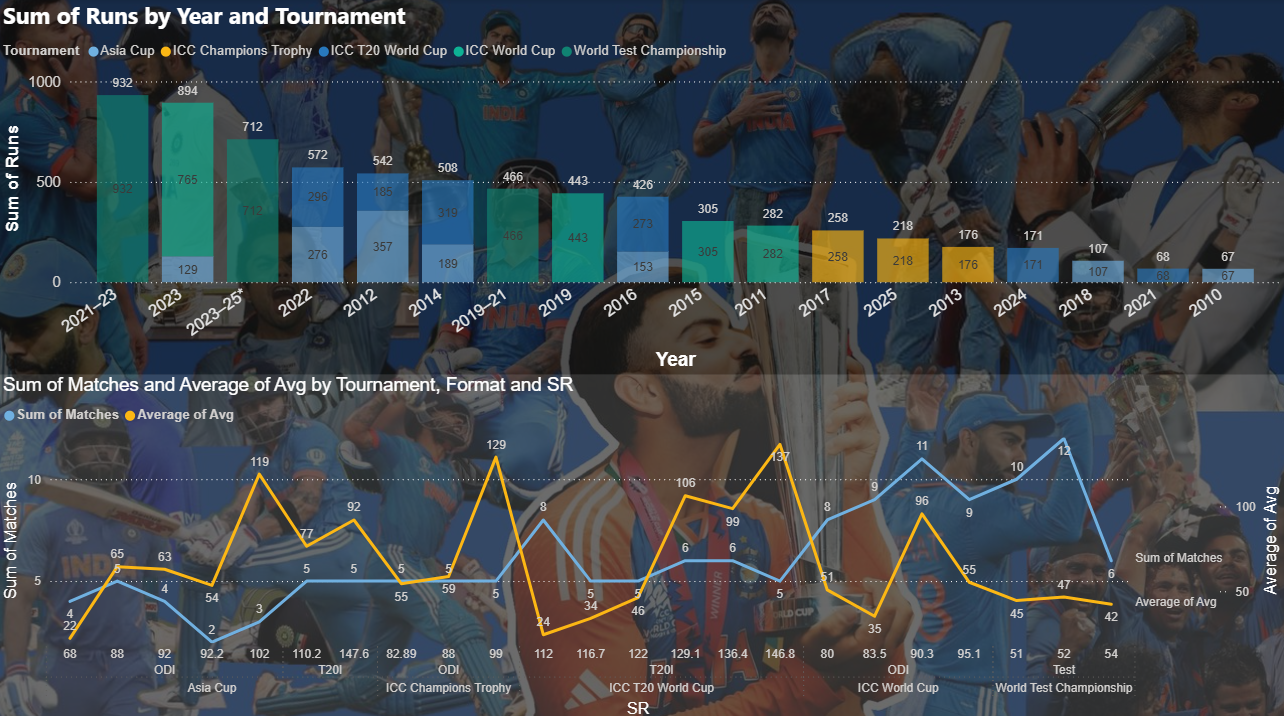

Layout of this report page (visuals, bound fields, positions):
{"tool":"powerbi","page":{"name":"Page 4","canvas":[1280,720],"ordinal":3},"visuals":[{"type":"columnChart","fields":{"Category":["Sheet1.Year"],"Y":["Sum(Sheet1.Runs)"],"Series":["Sheet1.Tournament"]},"box":[0,0,1279.4,373.5],"z":0},{"type":"lineChart","fields":{"Category":["Sheet1.Tournament","Sheet1.Format","Sheet1.SR"],"Y":["Sum(Sheet1.Matches)"],"Y2":["Avg(Sheet1.Avg)"]},"box":[0,373.5,1279.4,347.1],"z":1000}]}

Visuals, with their boxes in screenshot pixels (x1, y1, x2, y2), scaled from the page's 1280x720 canvas onto the 1284x716 screenshot:
columnChart - Sheet1.Year x Sum(Sheet1.Runs): [x1=0, y1=0, x2=1283, y2=371]
lineChart - Sheet1.Tournament x Sheet1.Format: [x1=0, y1=371, x2=1283, y2=715]
